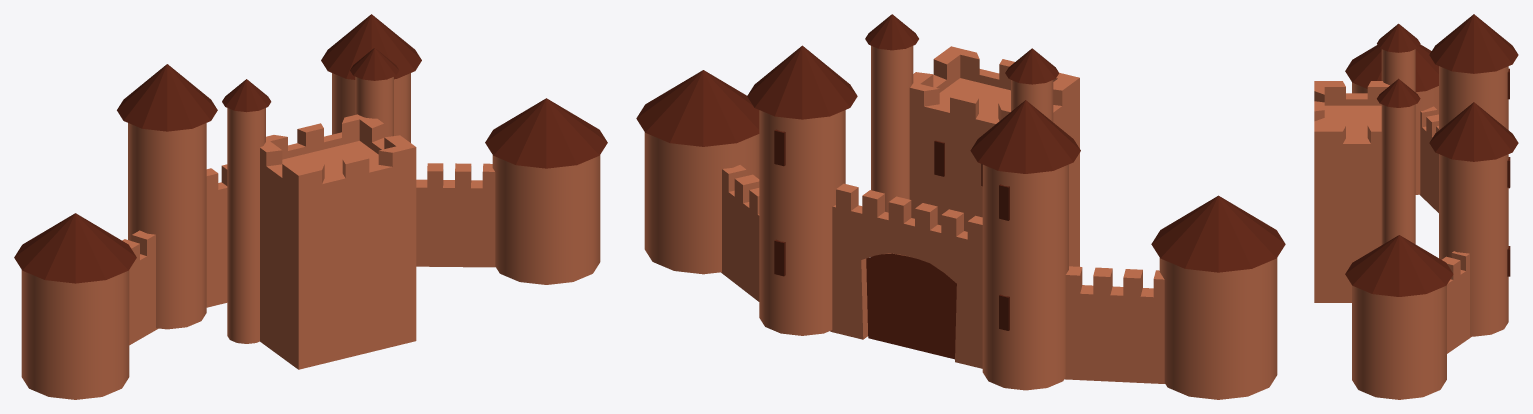
The model's file is Castle2.fbx.
The picture shows the model from 3 angles, left to right: view 1: azimuth 30°, elevation 25°; view 2: azimuth 150°, elevation 25°; view 3: azimuth 270°, elevation 25°; orthographic projection. The views are drawn at different scales.
Visible parts, largest first — view 1: Cube.005, Cylinder.010, Cylinder.008, Cylinder.007, Cylinder.011, Walls.010, Cylinder.006, Walls.008, Walls.009, Cylinder.009; view 2: Cylinder.007, Cylinder.006, Cylinder.010, Cylinder.008, Cube.005, Walls.008, Walls.009, Walls.016, Cylinder.009, Walls.010, Cylinder.011, Cube.057; view 3: Cylinder.008, Cube.005, Cylinder.006, Cylinder.007, Cylinder.009, Cylinder.010, Walls.010, Cylinder.011, Walls.009, Cube.057.
Boxes of the visible parts, x1=… form: Cube.005: x1=260, y1=114, x2=416, y2=369; Cylinder.010: x1=14, y1=213, x2=136, y2=399; Cylinder.008: x1=485, y1=98, x2=607, y2=284; Cylinder.007: x1=117, y1=64, x2=217, y2=329; Cylinder.011: x1=222, y1=79, x2=271, y2=343; Walls.010: x1=416, y1=163, x2=495, y2=267; Cylinder.006: x1=321, y1=14, x2=421, y2=142; Walls.008: x1=206, y1=164, x2=227, y2=307; Walls.009: x1=122, y1=230, x2=158, y2=345; Cylinder.009: x1=350, y1=48, x2=399, y2=137; Cylinder.007: x1=970, y1=100, x2=1080, y2=390; Cylinder.006: x1=747, y1=45, x2=857, y2=335; Cylinder.010: x1=1151, y1=195, x2=1285, y2=399; Cylinder.008: x1=636, y1=70, x2=759, y2=274; Cube.005: x1=909, y1=46, x2=1079, y2=266; Walls.008: x1=830, y1=183, x2=982, y2=368; Walls.009: x1=1064, y1=266, x2=1164, y2=383; Walls.016: x1=866, y1=253, x2=956, y2=359; Cylinder.009: x1=865, y1=14, x2=918, y2=256; Walls.010: x1=721, y1=165, x2=759, y2=301; Cylinder.011: x1=1005, y1=48, x2=1058, y2=121; Cube.057: x1=774, y1=129, x2=1009, y2=330; Cylinder.008: x1=1345, y1=235, x2=1453, y2=399; Cube.005: x1=1314, y1=81, x2=1389, y2=302; Cylinder.006: x1=1429, y1=102, x2=1518, y2=336; Cylinder.007: x1=1429, y1=14, x2=1518, y2=130; Cylinder.009: x1=1377, y1=78, x2=1420, y2=244; Cylinder.010: x1=1345, y1=44, x2=1438, y2=194; Walls.010: x1=1442, y1=251, x2=1471, y2=353; Cylinder.011: x1=1377, y1=23, x2=1420, y2=91; Walls.009: x1=1420, y1=106, x2=1438, y2=212; Cube.057: x1=1507, y1=68, x2=1510, y2=276.
Size of the model in its own units: 47.94 by 20.49 by 16.63.
